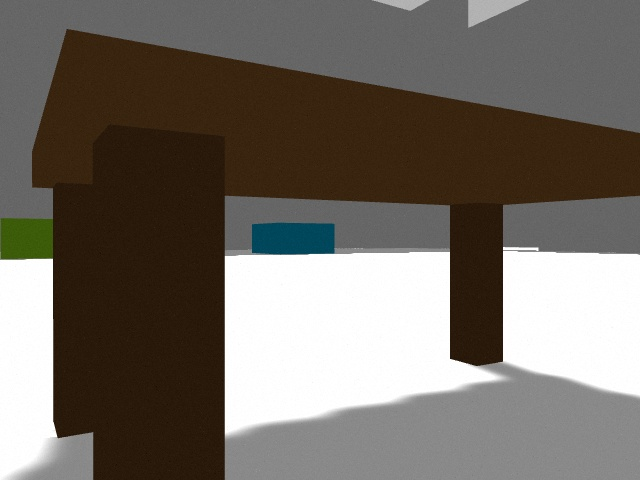blue_drop_zone: (252, 223, 335, 254)
green_drop_zone: (0, 218, 53, 259)
